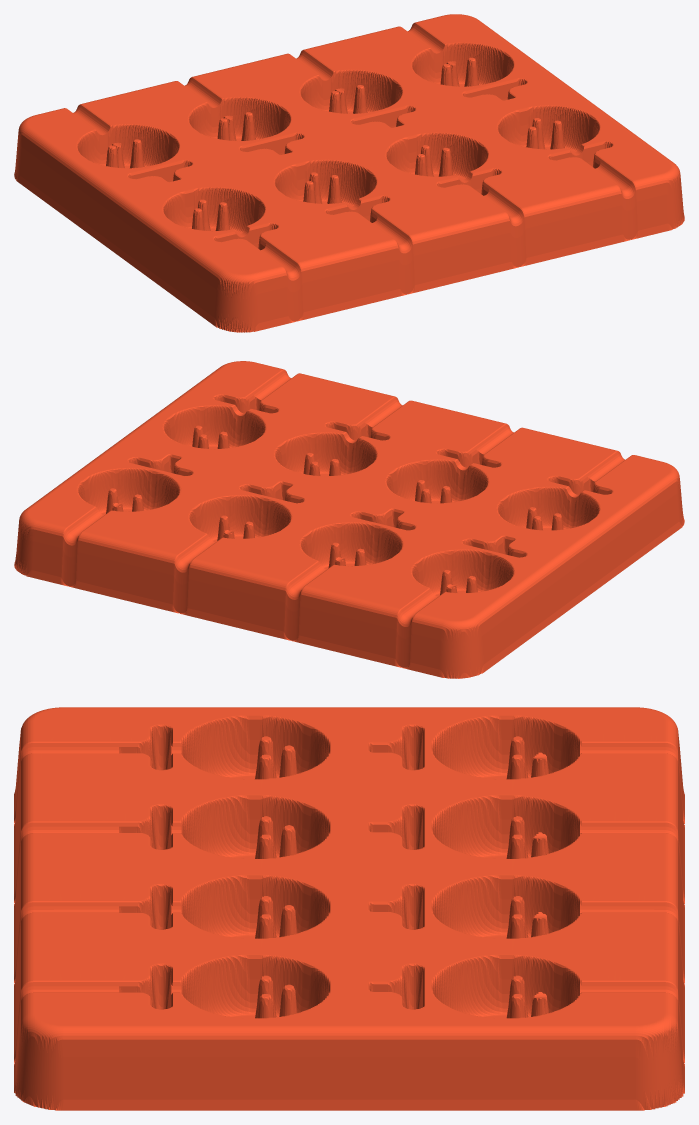
Rendered from mold.glb.
The picture shows the model from 3 angles, top to bottom: view 1: azimuth 30°, elevation 25°; view 2: azimuth 150°, elevation 25°; view 3: azimuth 270°, elevation 25°; orthographic projection. The views are drawn at different scales.
Visible parts, largest first — view 1: geometry_0; view 2: geometry_0; view 3: geometry_0.
Part boxes in pixels (x1,y1,x2,y2): geometry_0: [14, 14, 684, 332]; geometry_0: [14, 361, 684, 678]; geometry_0: [14, 707, 684, 1110].
Size of the model in its own units: 0.1446 by 0.0155 by 0.1229.
